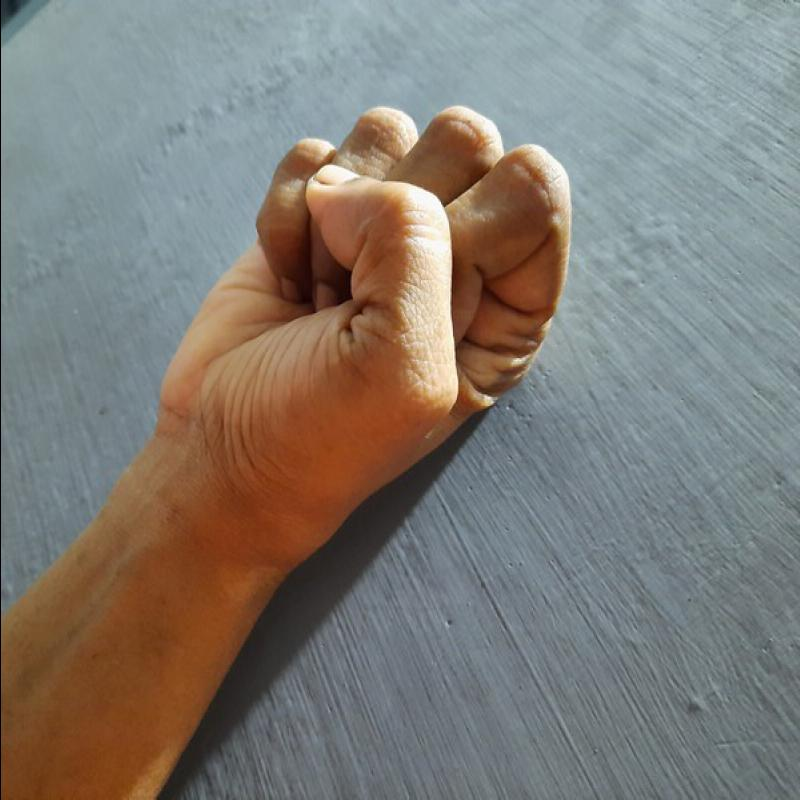Mushti: (130, 92, 602, 551)
